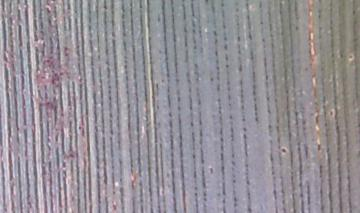tarspot: (62, 46, 72, 57), (59, 157, 67, 169), (155, 12, 162, 25), (279, 147, 288, 154), (328, 109, 334, 119), (208, 166, 214, 176), (68, 152, 75, 160), (209, 75, 215, 84), (351, 7, 356, 17), (39, 75, 47, 81), (50, 78, 56, 86), (293, 24, 299, 32), (347, 54, 353, 60), (316, 142, 320, 151), (44, 58, 50, 64), (77, 125, 82, 132), (203, 1, 208, 7)
